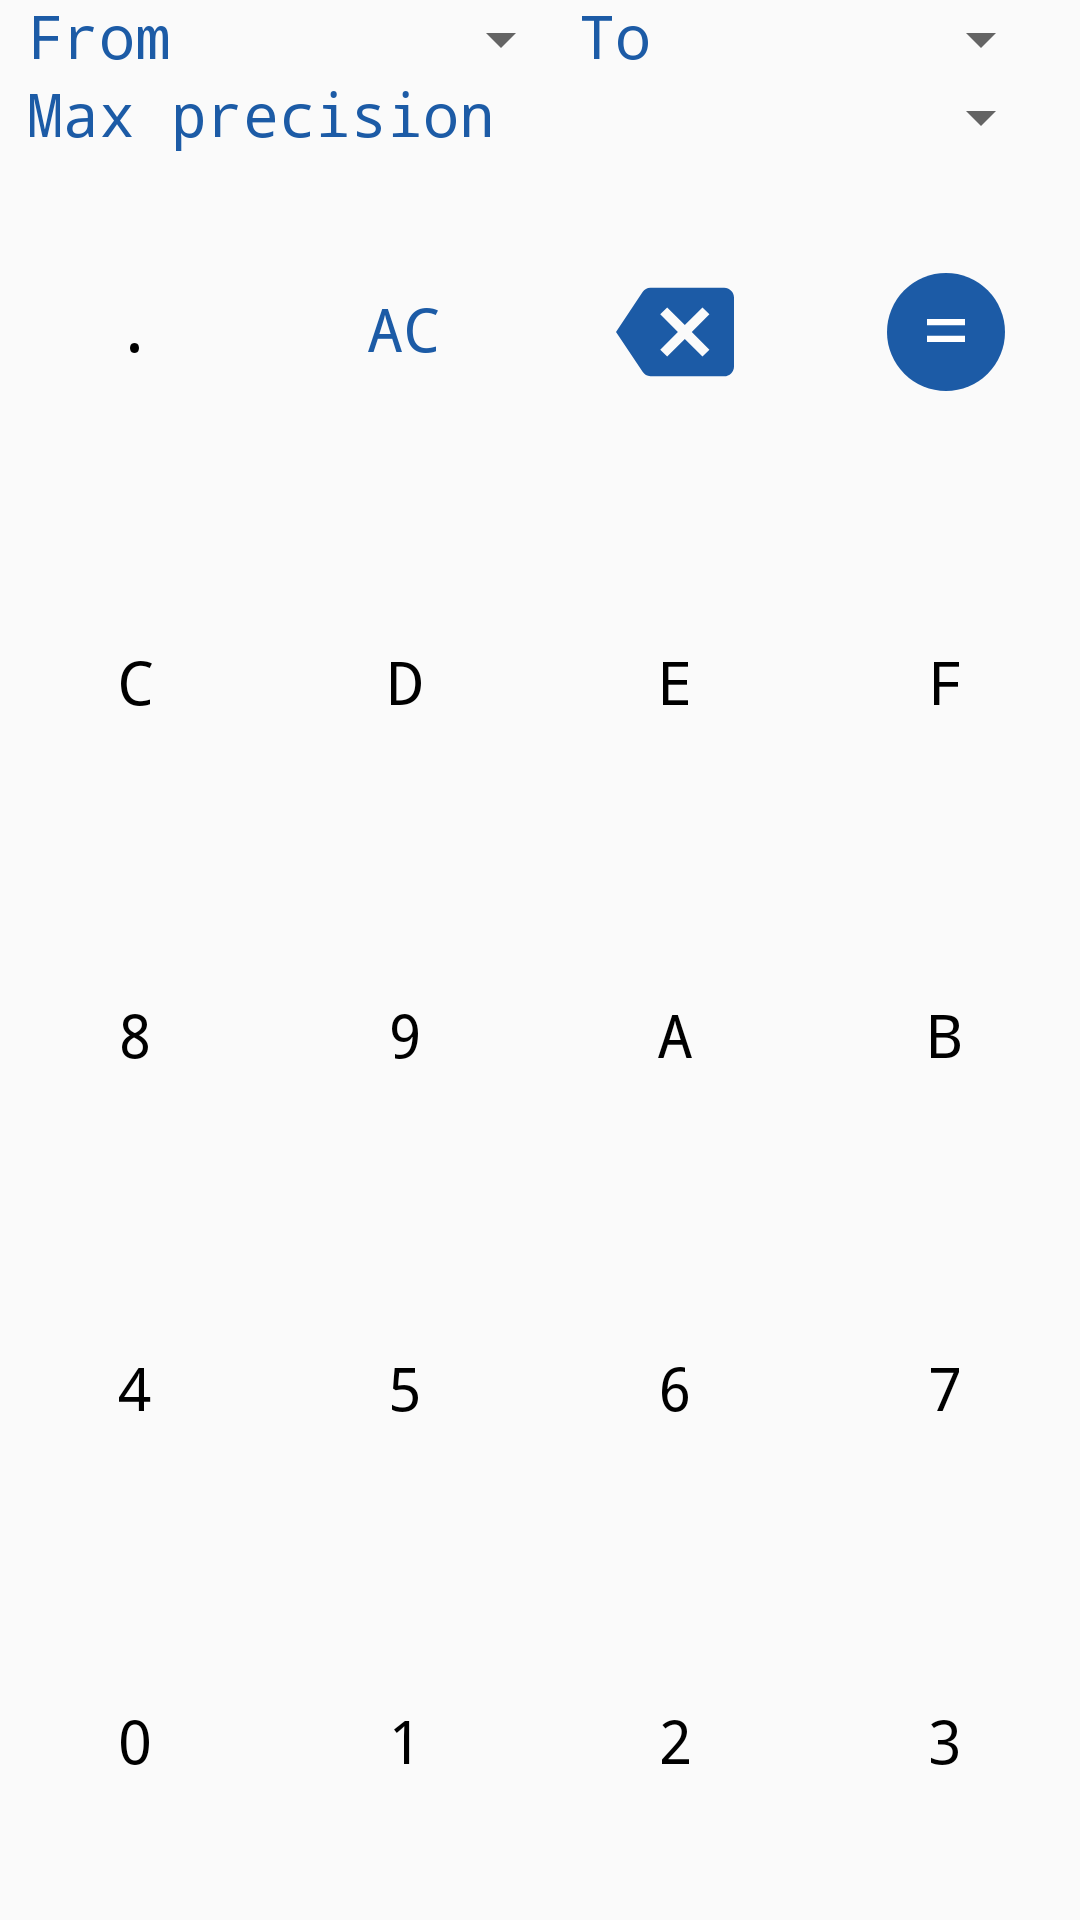

Point at icon controls on the screen. Image size 1080×1920, points as (x,y).
backspace: (675,332)
